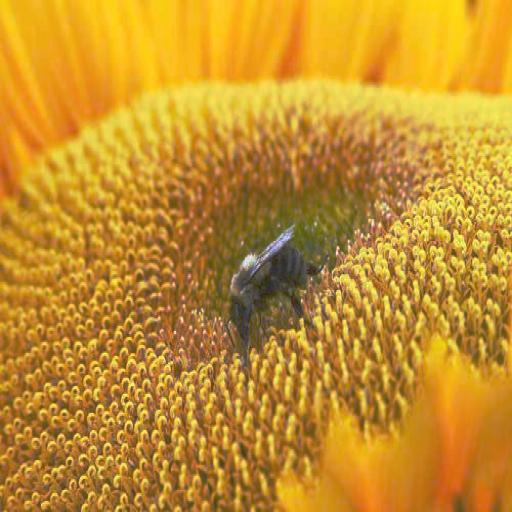sunflower: (0, 1, 512, 512)
